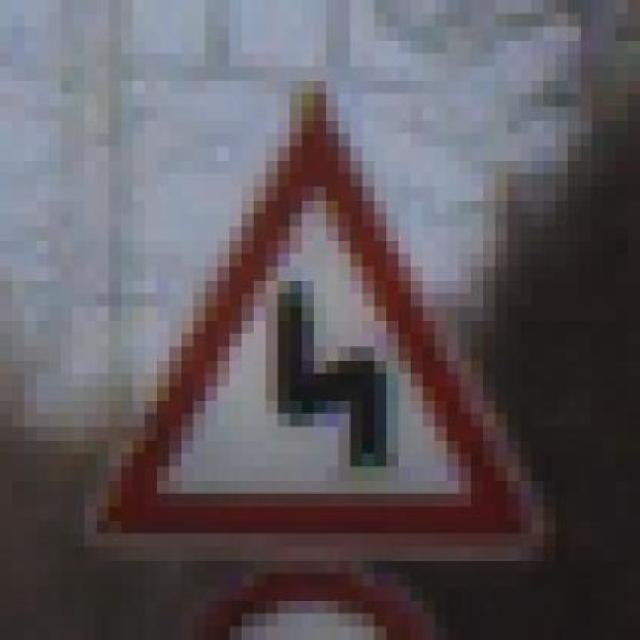Left Zig Zag Traffic: (84, 80, 556, 574)
